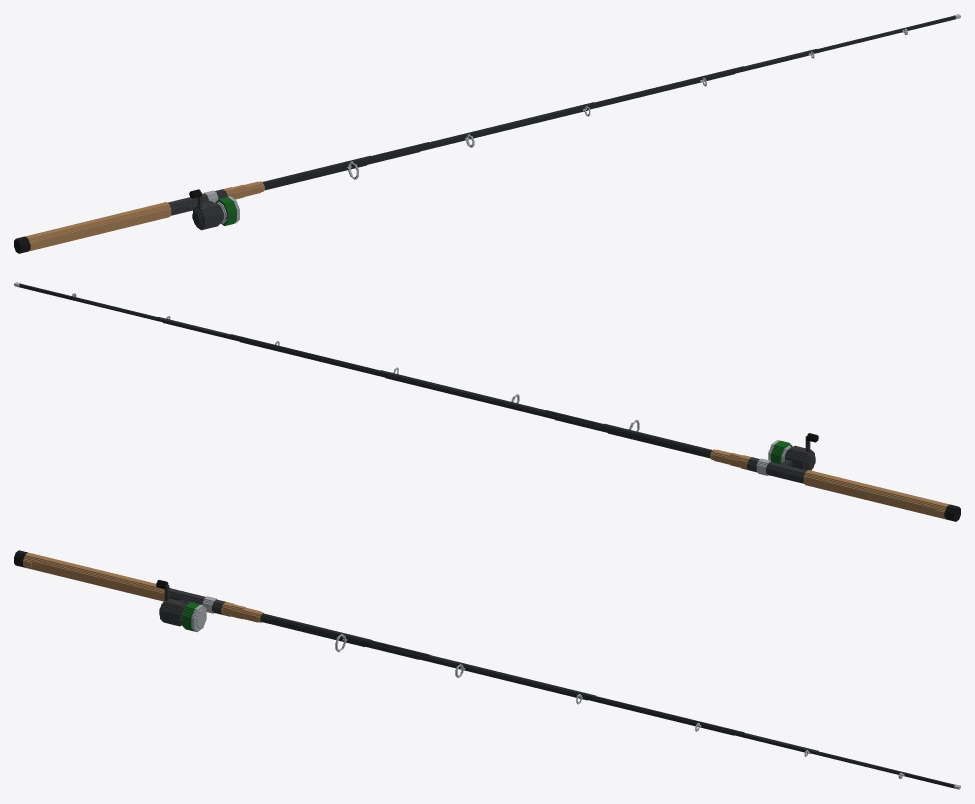
The model's file is fishing_rod_professional.glb.
3 views of the same model, one above another, from view 1: azimuth 30°, elevation 25°; view 2: azimuth 150°, elevation 25°; view 3: azimuth 330°, elevation 25° (orthographic).
Visible parts, largest first — view 1: fishing_rod_professional:compound; view 2: fishing_rod_professional:compound; view 3: fishing_rod_professional:compound.
Part boxes in pixels (left/top/right/bottom): fishing_rod_professional:compound: left=14, top=14, right=960, bottom=253; fishing_rod_professional:compound: left=14, top=282, right=960, bottom=521; fishing_rod_professional:compound: left=14, top=550, right=960, bottom=789.
Bounding box in the file's own units: 2 × 0.08 × 0.102.
